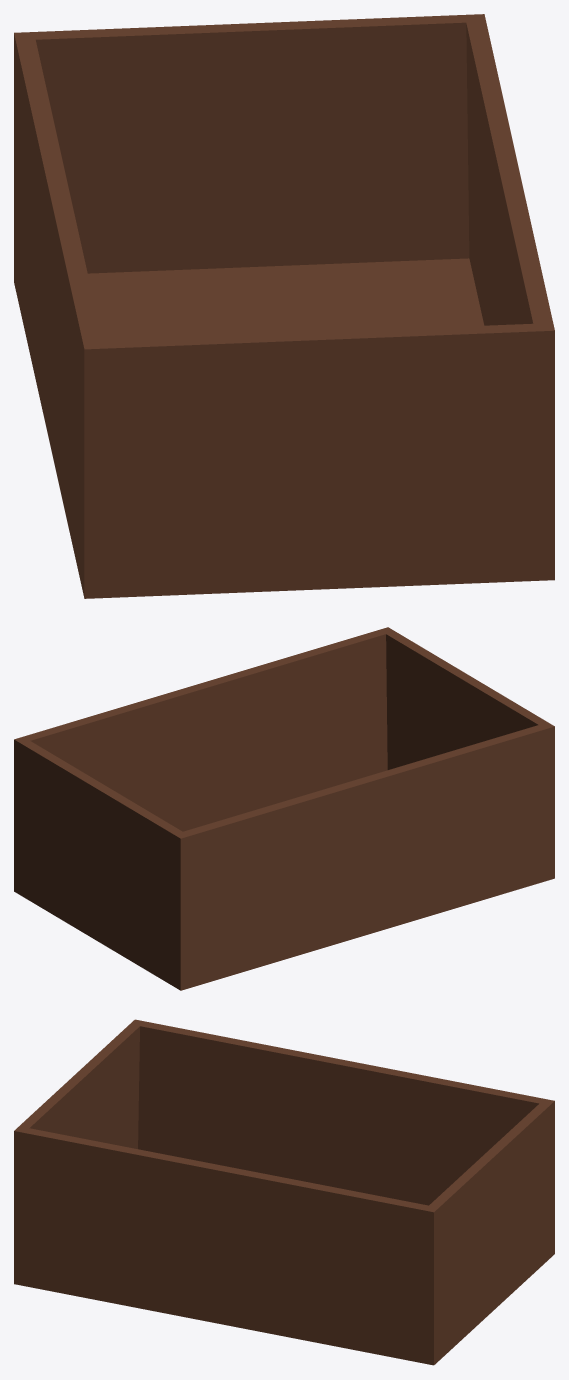
3 renders of one model, top to bottom at view 1: azimuth 30°, elevation 25°; view 2: azimuth 150°, elevation 25°; view 3: azimuth 270°, elevation 25°, orthographic. The views are drawn at different scales.
Parts seen in each view (by area): view 1: Box; view 2: Box; view 3: Box.
Boxes of the visible parts, x1,y1,x2,y2 form: Box: [14, 14, 554, 598]; Box: [14, 627, 554, 990]; Box: [14, 1019, 554, 1365].
Bounding box in the file's own units: 48.55 × 17.98 × 57.56.
